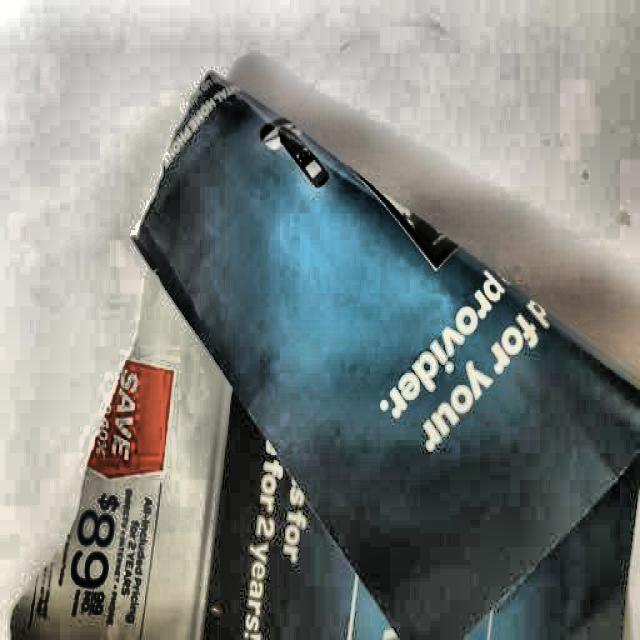paper: (6, 74, 640, 640)
